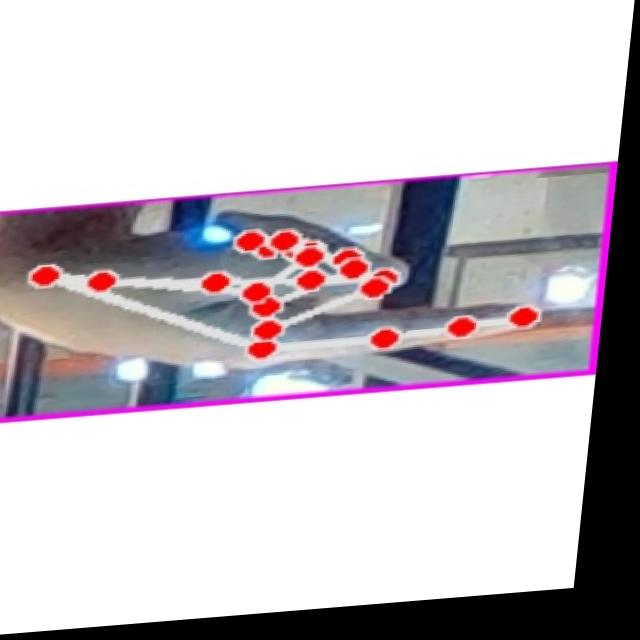G: (0, 197, 576, 400)
